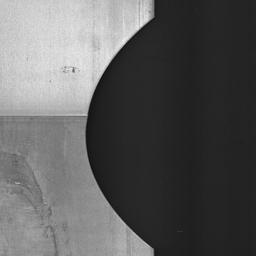Crescent gap: (85, 18, 153, 248)
